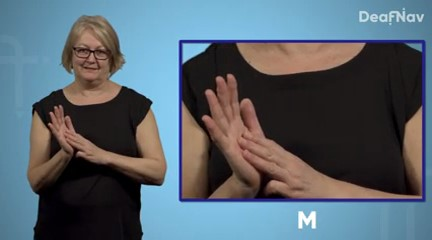M: (43, 99, 109, 168)
